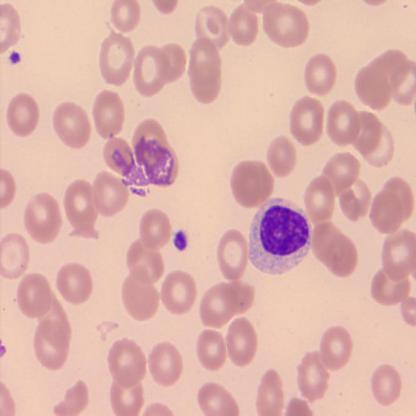Myelocyte: (248, 199, 312, 273)
